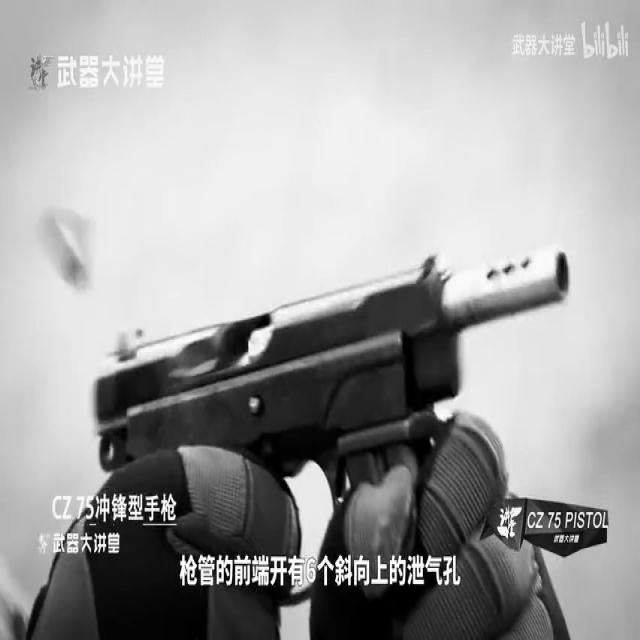Hand-Gun: (49, 180, 632, 640)
